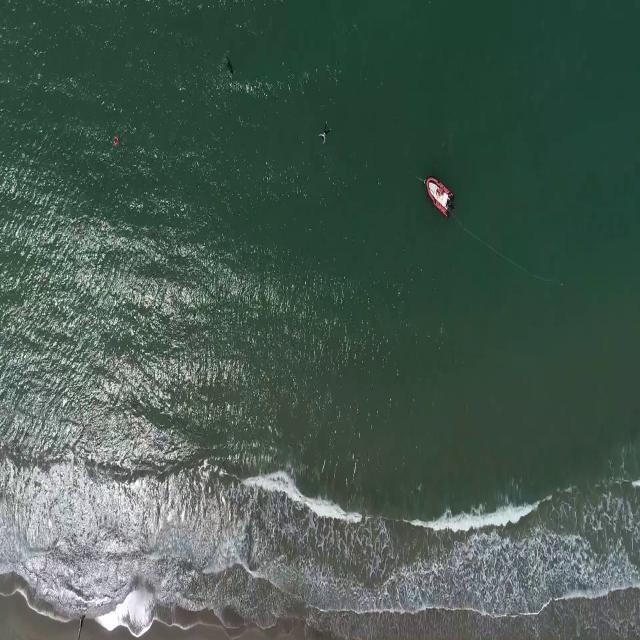boat: (426, 174, 454, 220)
life_buoy: (112, 133, 120, 145)
person: (318, 122, 332, 146), (222, 54, 237, 76)
wood: (76, 609, 88, 640)
